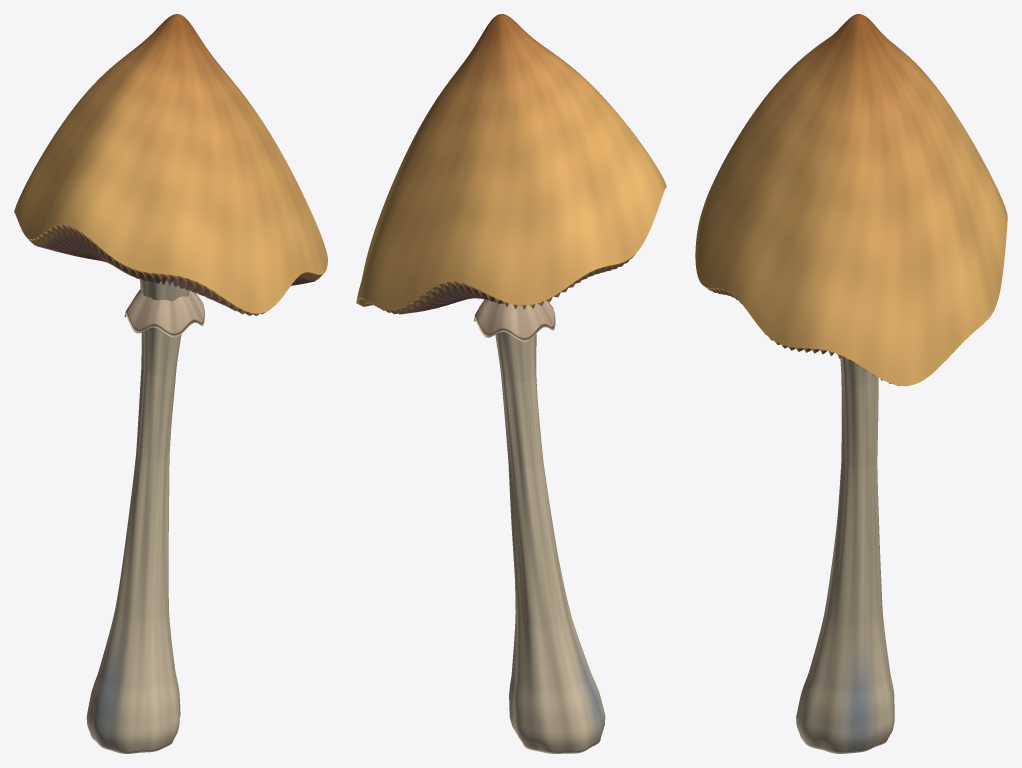
The model's file is Goerliensis-Spray-Land-120m.glb.
3 views of the same model, side by side, from view 1: azimuth 30°, elevation 25°; view 2: azimuth 150°, elevation 25°; view 3: azimuth 270°, elevation 25° (orthographic). The views are drawn at different scales.
Visible parts, largest first — view 1: Psilocybe Cubensis “Goerliensis”; view 2: Psilocybe Cubensis “Goerliensis”; view 3: Psilocybe Cubensis “Goerliensis”.
Boxes of the visible parts, x1=… form: Psilocybe Cubensis “Goerliensis”: x1=14, y1=14, x2=327, y2=753; Psilocybe Cubensis “Goerliensis”: x1=356, y1=14, x2=666, y2=753; Psilocybe Cubensis “Goerliensis”: x1=695, y1=14, x2=1007, y2=753.
Bounding box in the file's own units: 47.86 × 120 × 44.71.
